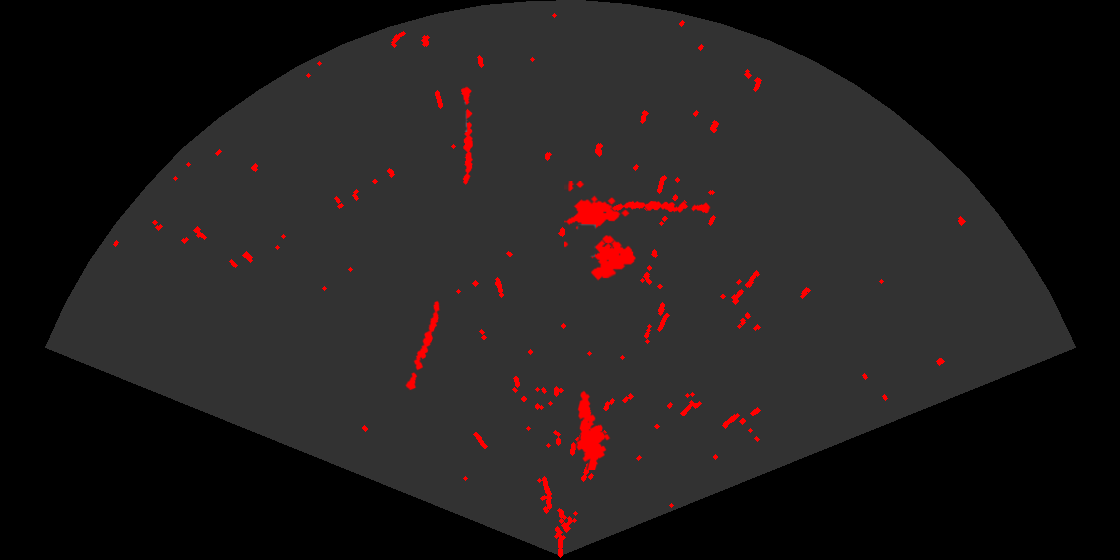cage: (564, 181, 637, 282)
chain: (404, 299, 442, 392), (610, 199, 711, 215), (459, 85, 474, 186)
frogman: (575, 389, 612, 470)
